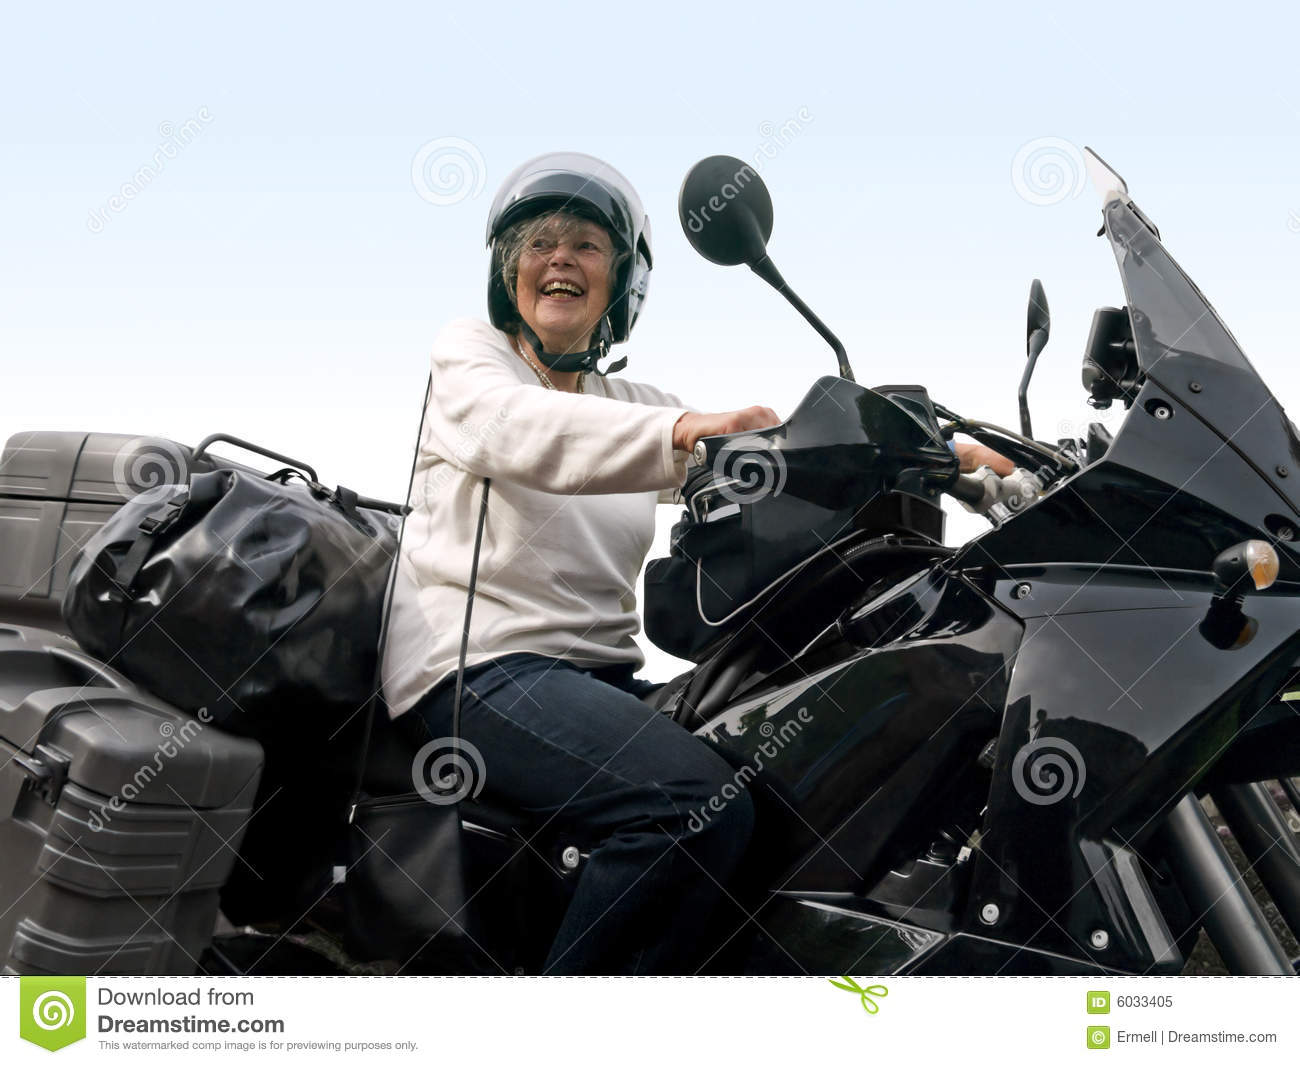helmet: (480, 157, 654, 321)
